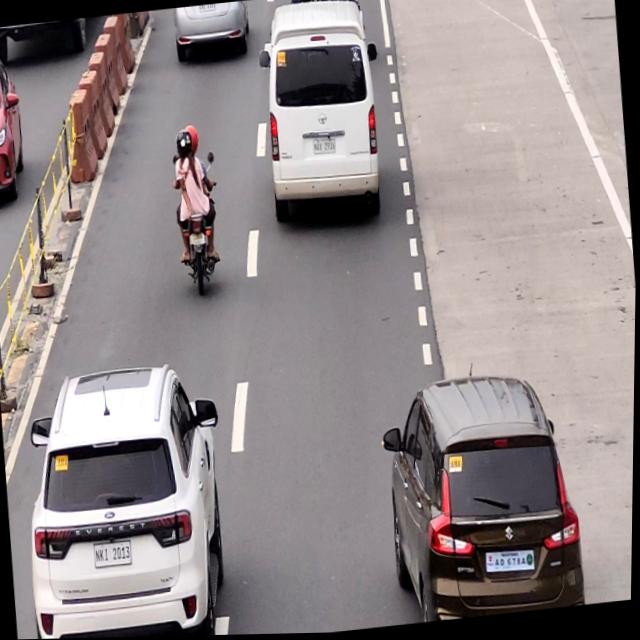Car: (23, 362, 232, 639), (378, 366, 589, 627), (260, 1, 387, 236), (172, 1, 254, 60)
License-Plate: (483, 544, 539, 577), (92, 540, 135, 572), (312, 137, 338, 157)
Motorcycle: (168, 122, 224, 304)
